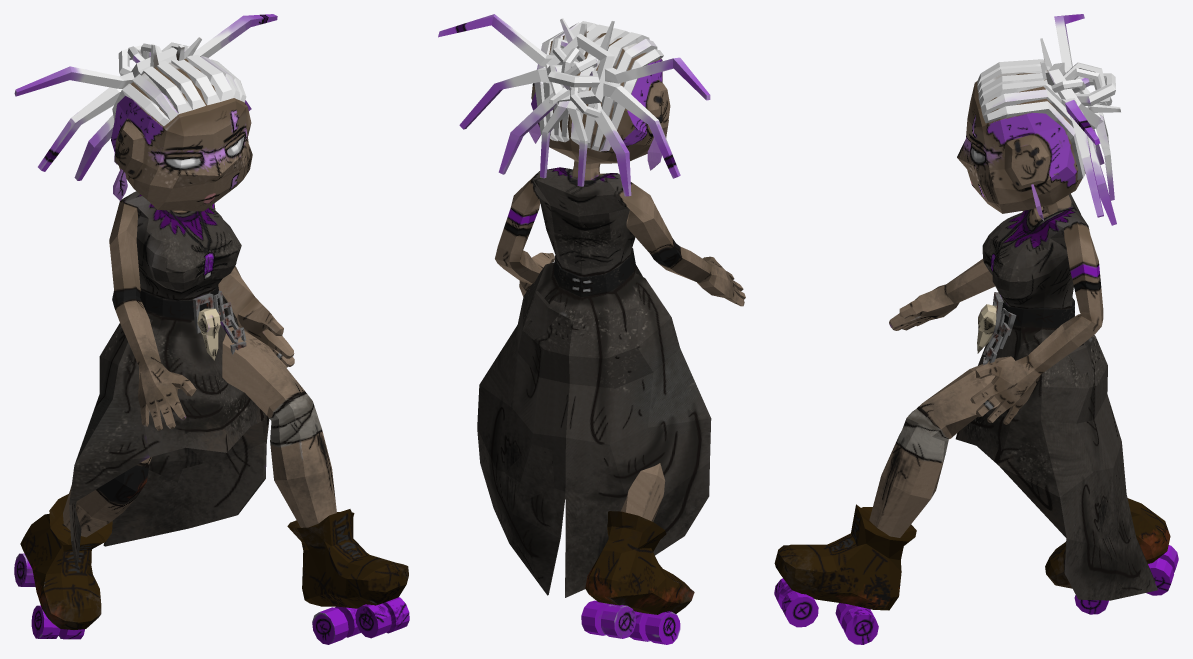
Rendered from bruja_000004.obj.
3 views of the same model, side by side, from view 1: azimuth 30°, elevation 25°; view 2: azimuth 150°, elevation 25°; view 3: azimuth 270°, elevation 25° (orthographic). The views are drawn at different scales.
Parts seen in each view (by area): view 1: Bruja_Plane.001; view 2: Bruja_Plane.001; view 3: Bruja_Plane.001.
Part boxes in pixels (x1,y1,x2,y2): Bruja_Plane.001: (14, 14, 409, 644); Bruja_Plane.001: (438, 14, 745, 644); Bruja_Plane.001: (774, 14, 1178, 644).
Bounding box in the file's own units: 7.47 × 15.88 × 9.69.
